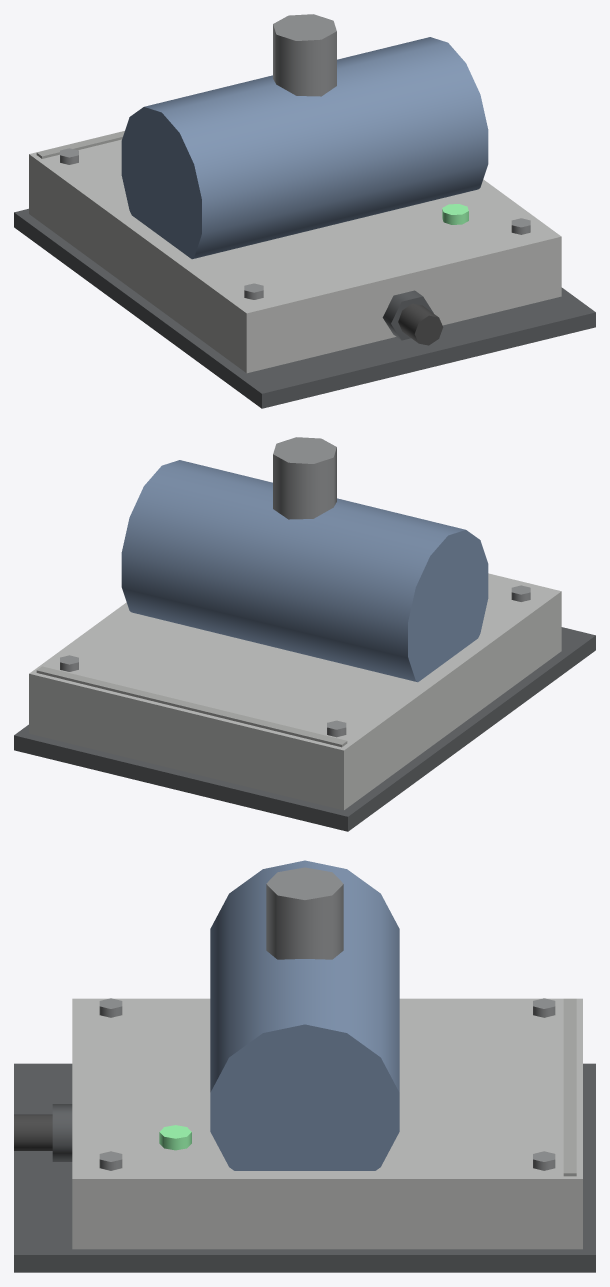
Rendered from lsFlow_steel.glb.
3 views of the same model, one above another, from view 1: azimuth 30°, elevation 25°; view 2: azimuth 150°, elevation 25°; view 3: azimuth 270°, elevation 25° (orthographic). The views are drawn at different scales.
Visible parts, largest first — view 1: lsFlow_steel; view 2: lsFlow_steel; view 3: lsFlow_steel.
Part boxes in pixels (<box>): lsFlow_steel: <box>14,14,595,408</box>; lsFlow_steel: <box>14,437,595,831</box>; lsFlow_steel: <box>14,860,595,1272</box>.
Bounding box in the file's own units: 0.14 × 0.1 × 0.18.
